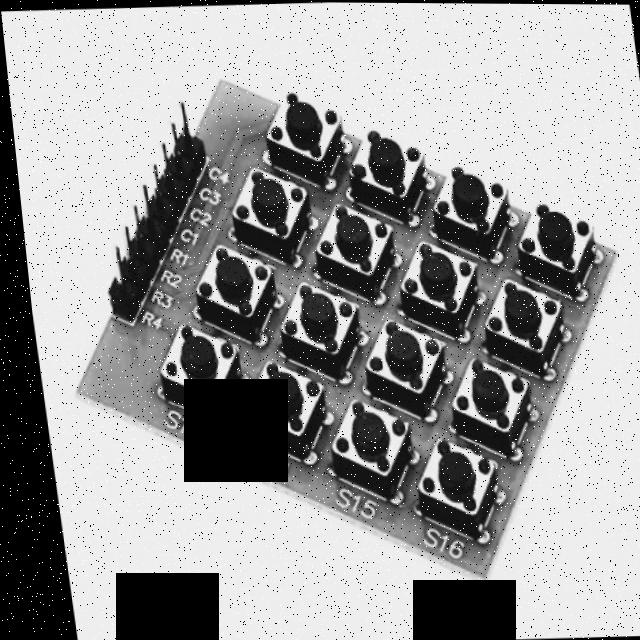2235: (404, 423, 491, 534), (474, 271, 559, 361), (319, 398, 402, 483), (509, 193, 587, 283), (427, 150, 501, 241), (262, 83, 341, 168), (311, 202, 394, 282), (443, 357, 524, 437), (238, 352, 314, 437), (347, 120, 421, 206), (191, 238, 269, 319), (396, 230, 468, 317), (224, 155, 301, 235), (361, 321, 440, 395), (159, 324, 231, 399), (275, 280, 347, 353)
connector -5v-: (80, 132, 223, 312)
